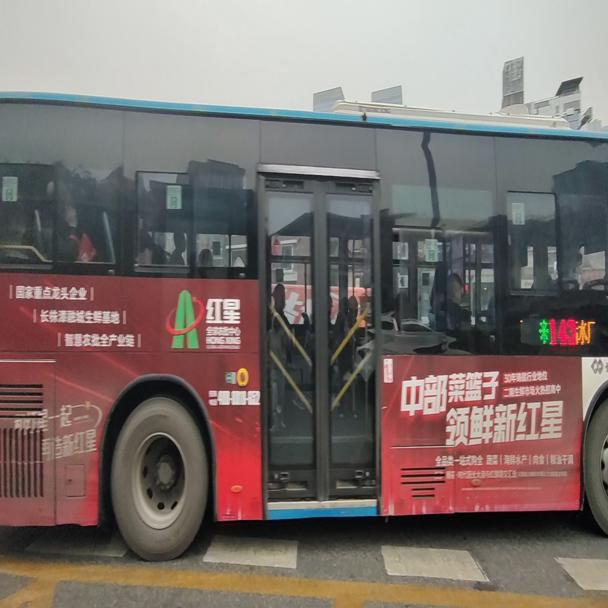bus: (0, 83, 608, 540)
screen: (548, 310, 577, 346)
